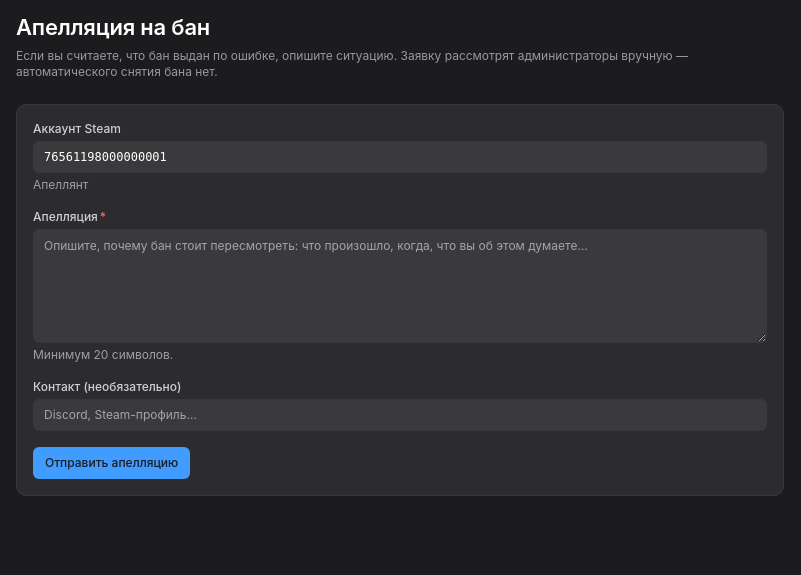
Test: PublicAppealPage › shows the duplicate message on a 409
The image size is (801, 575).
expect the field showing "76561198000000001" is shown: met, box [33, 141, 767, 173]
Replace the text in the text box with placeholder "Опишите, почему" with "Меня забанили по ошибке, прошу пересмотреть решение." at (400, 286), box [33, 229, 767, 343]
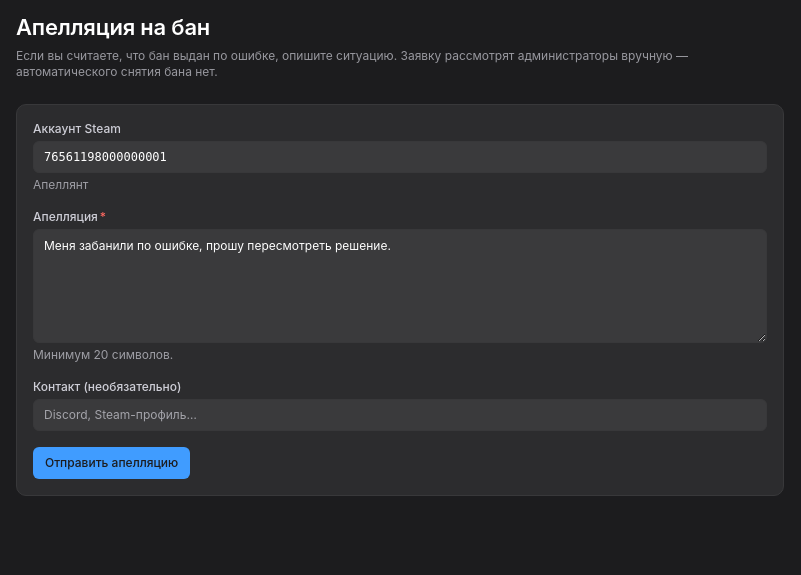
Click the button "Отправить апелляцию" at (112, 463), box [33, 447, 190, 479]
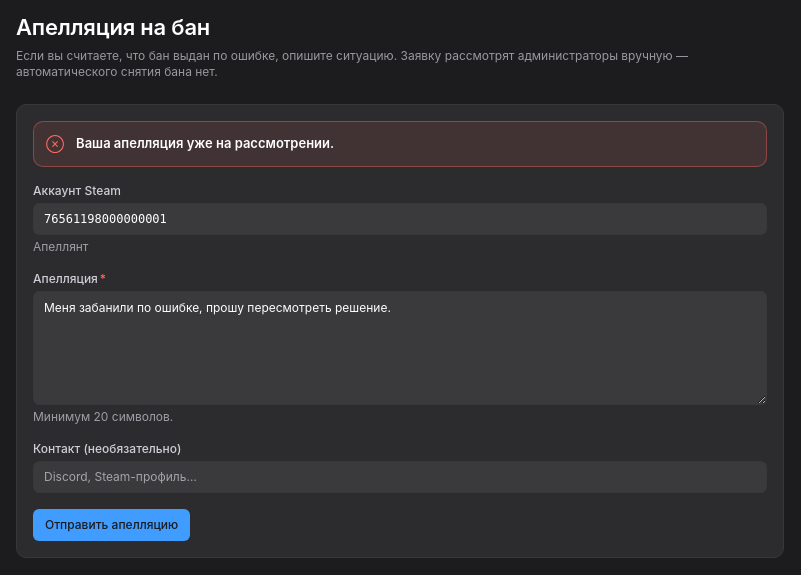
expect the text "Ваша апелляция уже на рассмотрении." is shown: met, box [76, 135, 334, 151]
